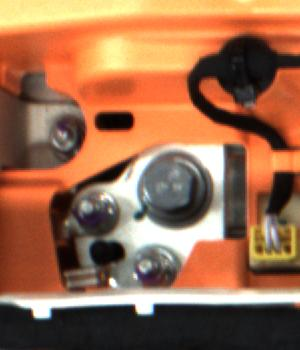nut_b: (135, 154, 216, 226)
screw_s: (67, 191, 116, 228), (133, 253, 177, 285), (40, 119, 74, 156)
